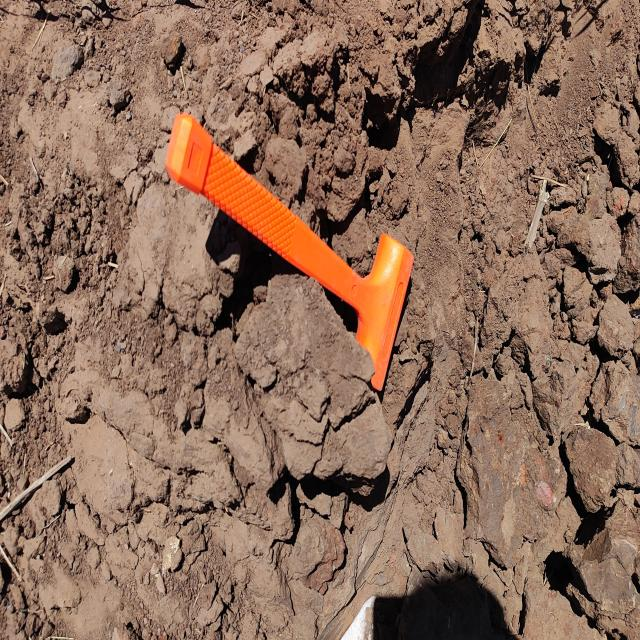Orange_hammer: (164, 110, 414, 393)
